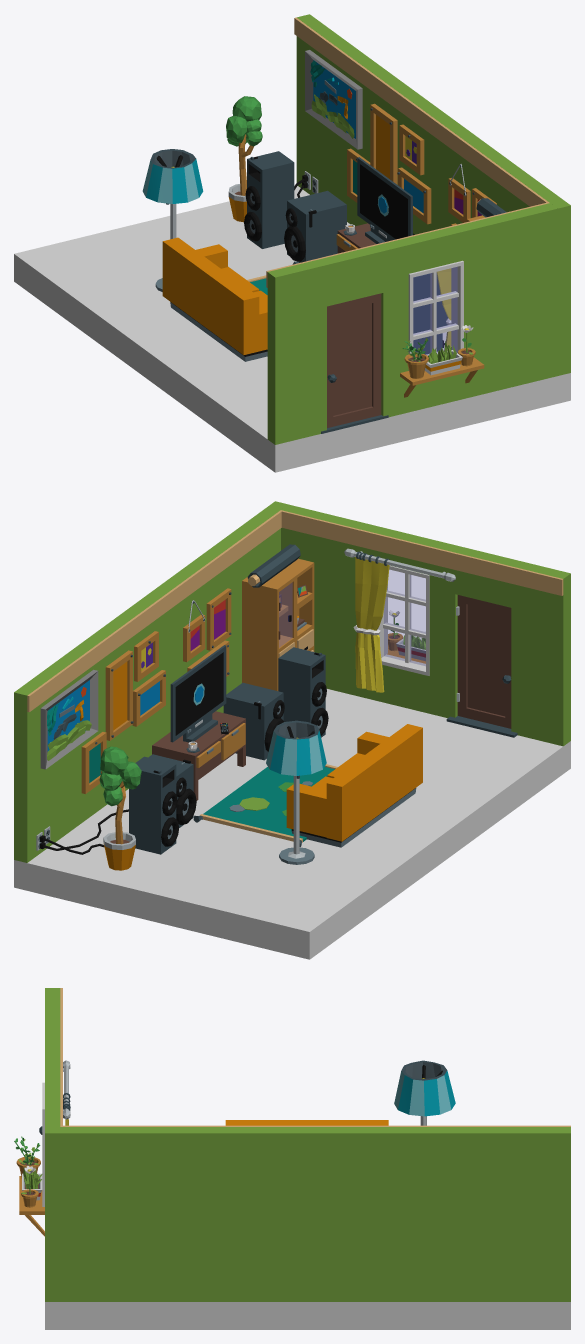
The picture shows the model from 3 angles, top to bottom: view 1: azimuth 30°, elevation 25°; view 2: azimuth 150°, elevation 25°; view 3: azimuth 270°, elevation 25°; orthographic projection.
Visible parts, largest first — view 1: node_MeshObject-118343680-PolyPaper21, node_MeshObject1025814528-PolyPaper23, node_MeshObject-1253753856-PolyPaper12, node_MeshObject1597893632-PolyPaper16, node_MeshObject453735424-PolyGlass24; view 2: node_MeshObject-118343680-PolyPaper21, node_MeshObject1025814528-PolyPaper23, node_MeshObject-1253753856-PolyPaper12, node_MeshObject453735424-PolyGlass24, node_MeshObject1597893632-PolyPaper16; view 3: node_MeshObject-1253753856-PolyPaper12, node_MeshObject-118343680-PolyPaper21, node_MeshObject1025814528-PolyPaper23, node_MeshObject1597893632-PolyPaper16.
Boxes of the visible parts, box(x1,y1,x2,y2) form: node_MeshObject-118343680-PolyPaper21: box(14, 50, 570, 472); node_MeshObject1025814528-PolyPaper23: box(142, 96, 557, 444); node_MeshObject-1253753856-PolyPaper12: box(162, 14, 570, 375); node_MeshObject1597893632-PolyPaper16: box(304, 160, 477, 383); node_MeshObject453735424-PolyGlass24: box(413, 267, 457, 355); node_MeshObject-118343680-PolyPaper21: box(14, 544, 570, 959); node_MeshObject1025814528-PolyPaper23: box(38, 504, 570, 870); node_MeshObject-1253753856-PolyPaper12: box(14, 501, 422, 862); node_MeshObject453735424-PolyGlass24: box(279, 570, 425, 665); node_MeshObject1597893632-PolyPaper16: box(36, 547, 518, 850); node_MeshObject-1253753856-PolyPaper12: box(45, 1120, 570, 1301); node_MeshObject-118343680-PolyPaper21: box(21, 1189, 570, 1329); node_MeshObject1025814528-PolyPaper23: box(19, 988, 455, 1214); node_MeshObject1597893632-PolyPaper16: box(14, 1013, 70, 1236).
Bounding box in the file's own units: 2.68 × 1.69 × 4.34.
